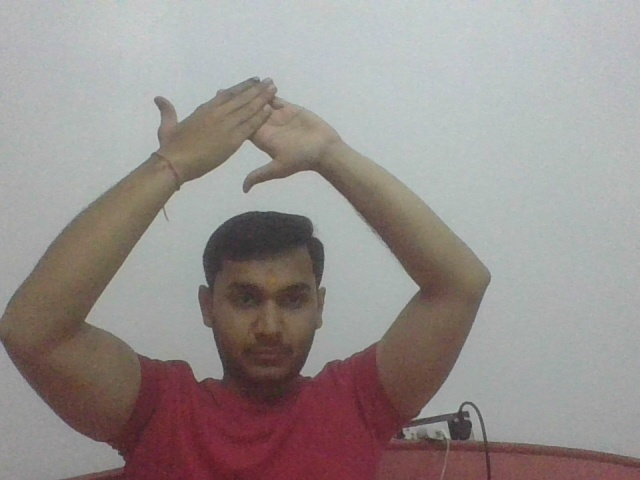H: (142, 75, 340, 196)
